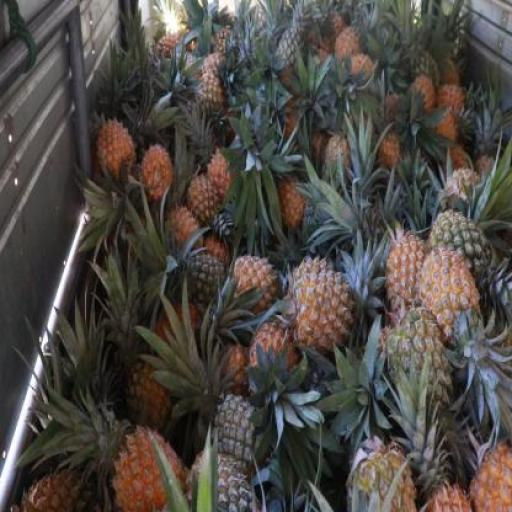------------------------------: (427, 214, 494, 328), (384, 316, 453, 409), (122, 362, 173, 437), (194, 74, 226, 134)
Pineapple - v8 v1: (418, 250, 482, 352), (114, 432, 192, 511), (289, 258, 352, 352), (384, 239, 434, 327), (248, 318, 295, 398), (96, 121, 134, 181), (236, 258, 278, 307), (186, 174, 224, 222), (142, 144, 172, 204)
